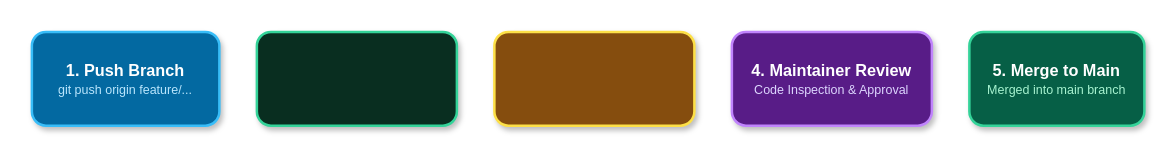
The diagram is 1174 pixels wide and 156 high, and some of its shapes have lost their labels. Here are the shapes that lost their labels. From the top down, the centre of each, then its label:
pixel 357 80: 2. Open Pull Request Fill PR Template Checklist
pixel 595 80: 3. Automated CI Tests manage.py test & check
